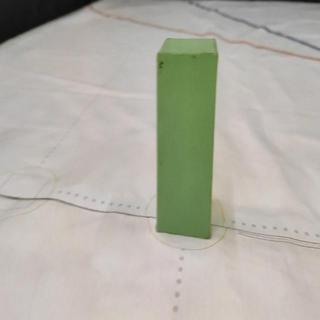greenbox: (156, 37, 219, 241)
